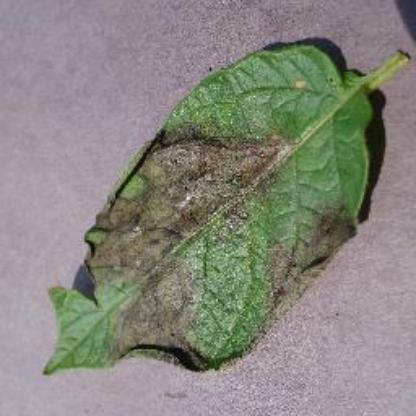Late-Blight: (37, 37, 412, 380)
